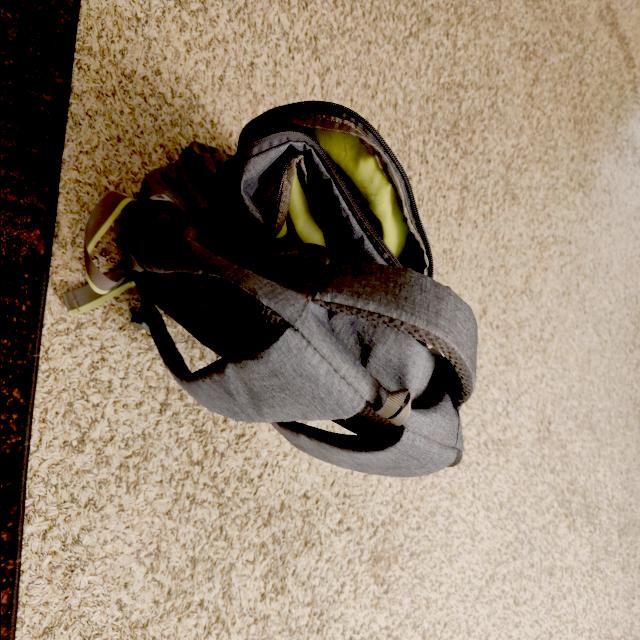bag: (127, 107, 474, 454)
